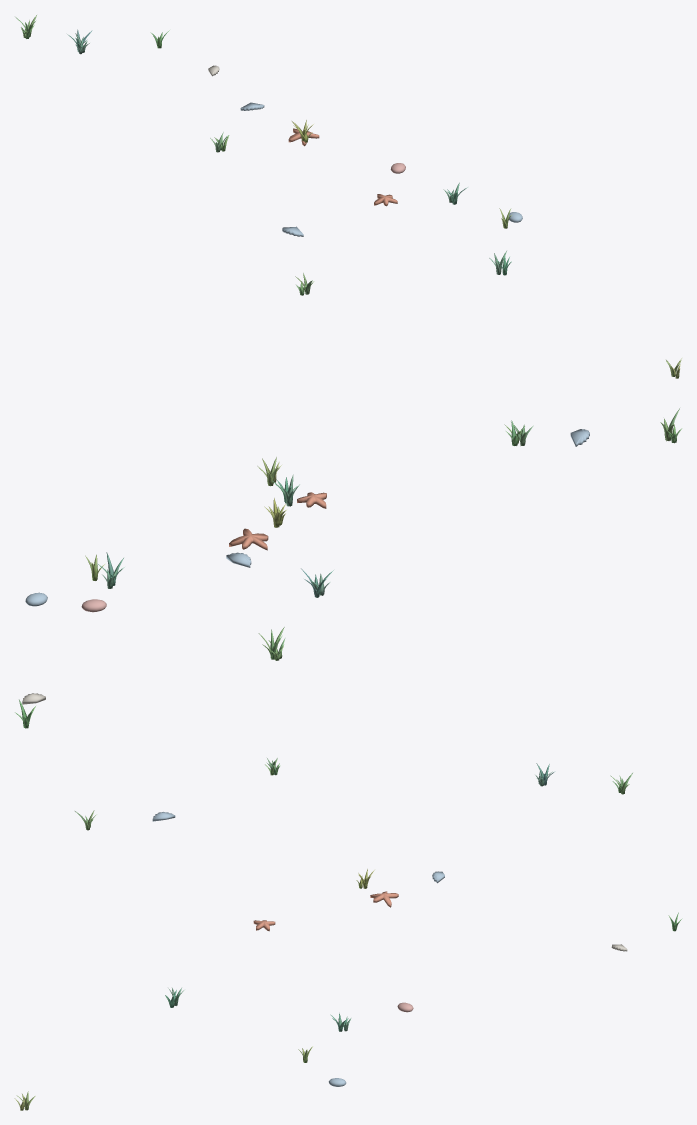
Rendered from W2_FloraRing_7_9.fbx.
3 renders of one model, top to bottom at view 1: azimuth 30°, elevation 25°; view 2: azimuth 150°, elevation 25°; view 3: azimuth 270°, elevation 25°, orthographic. The views are drawn at different scales.
Visible parts, largest first — view 1: W2_FloraRing_7_9; view 2: W2_FloraRing_7_9; view 3: W2_FloraRing_7_9.
Part boxes in pixels (box(x1,y1,x2,y2)): W2_FloraRing_7_9: box(15, 15, 681, 378); W2_FloraRing_7_9: box(15, 408, 682, 728); W2_FloraRing_7_9: box(14, 758, 682, 1110).
Bounding box in the file's own units: 2.31 × 1.37 × 4.02.
